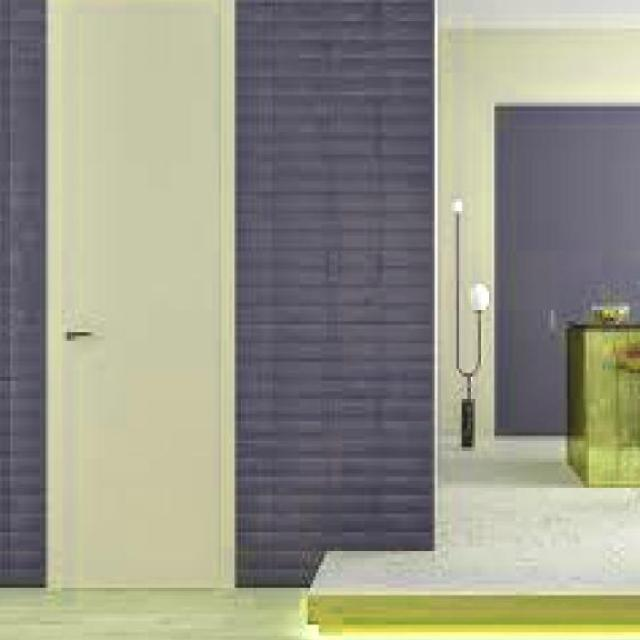door: (44, 0, 234, 590)
